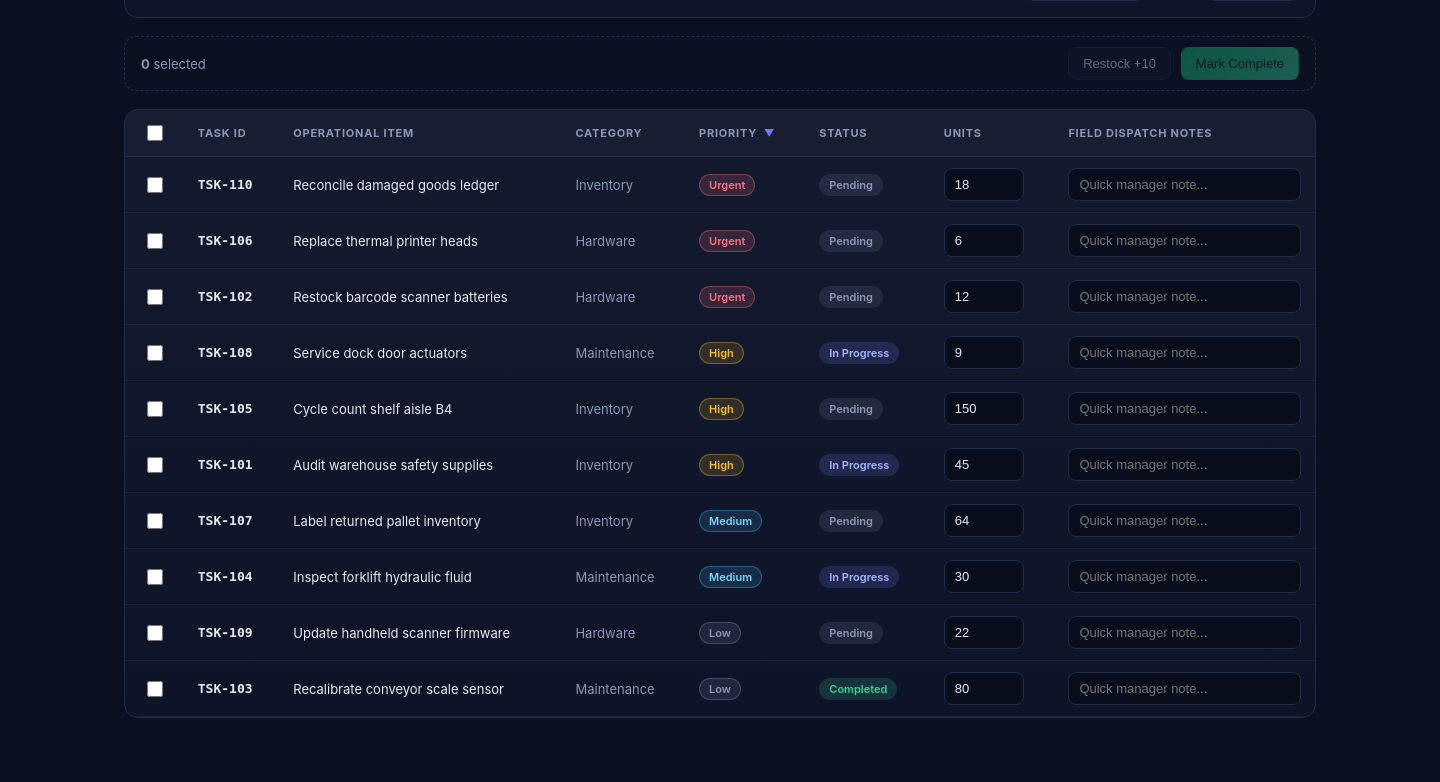
Scenario: Bulk Actions & Selection Fidelity › updates ALL selected tasks when executing bulk Mark Complete
(page scrolled)
Expected: the text "TSK-101" is shown, left=184, top=436, right=279, bottom=492
Click the checkbox named "Select task TSK-101" at (155, 464), box left=147, top=456, right=163, bottom=472
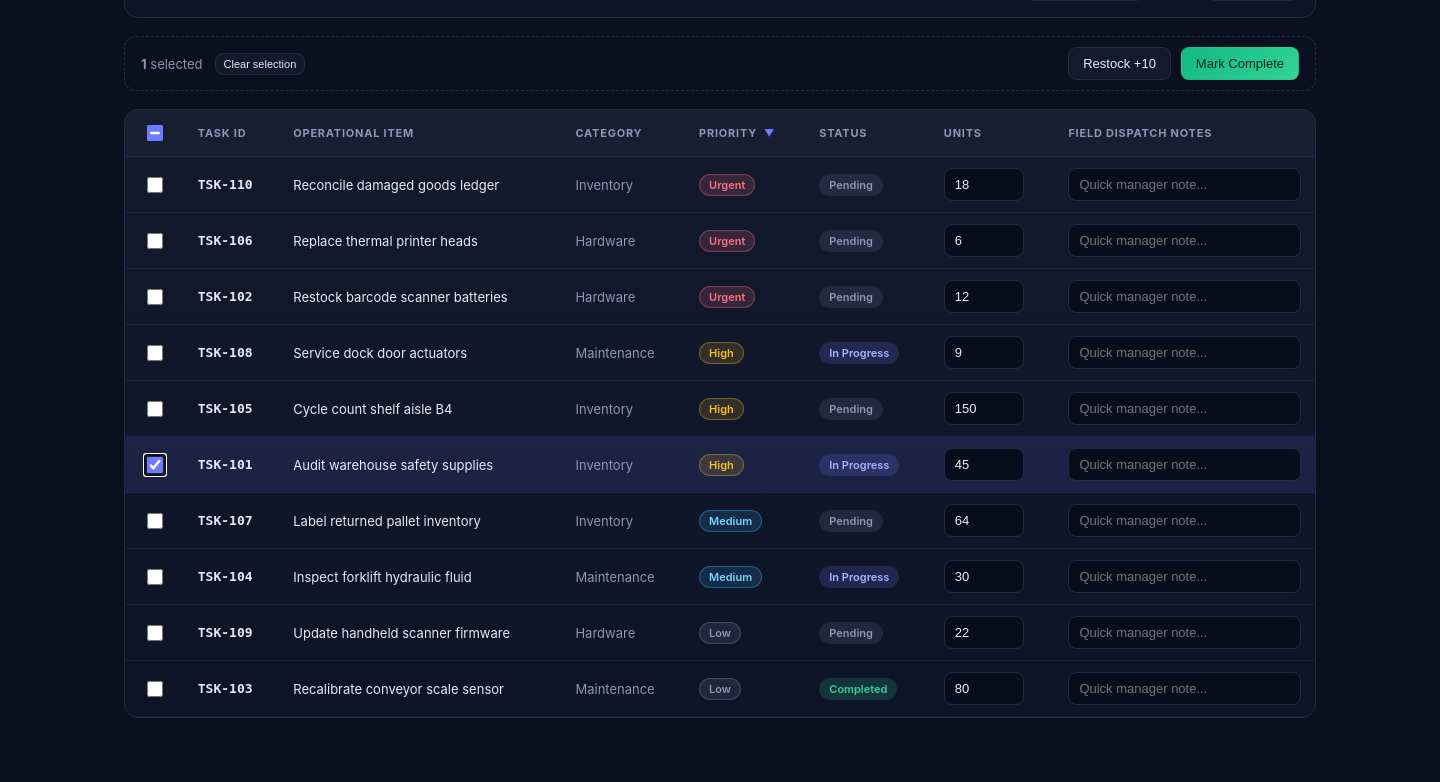
Click the checkbox named "Select task TSK-102" at (155, 296), box left=147, top=288, right=163, bottom=304
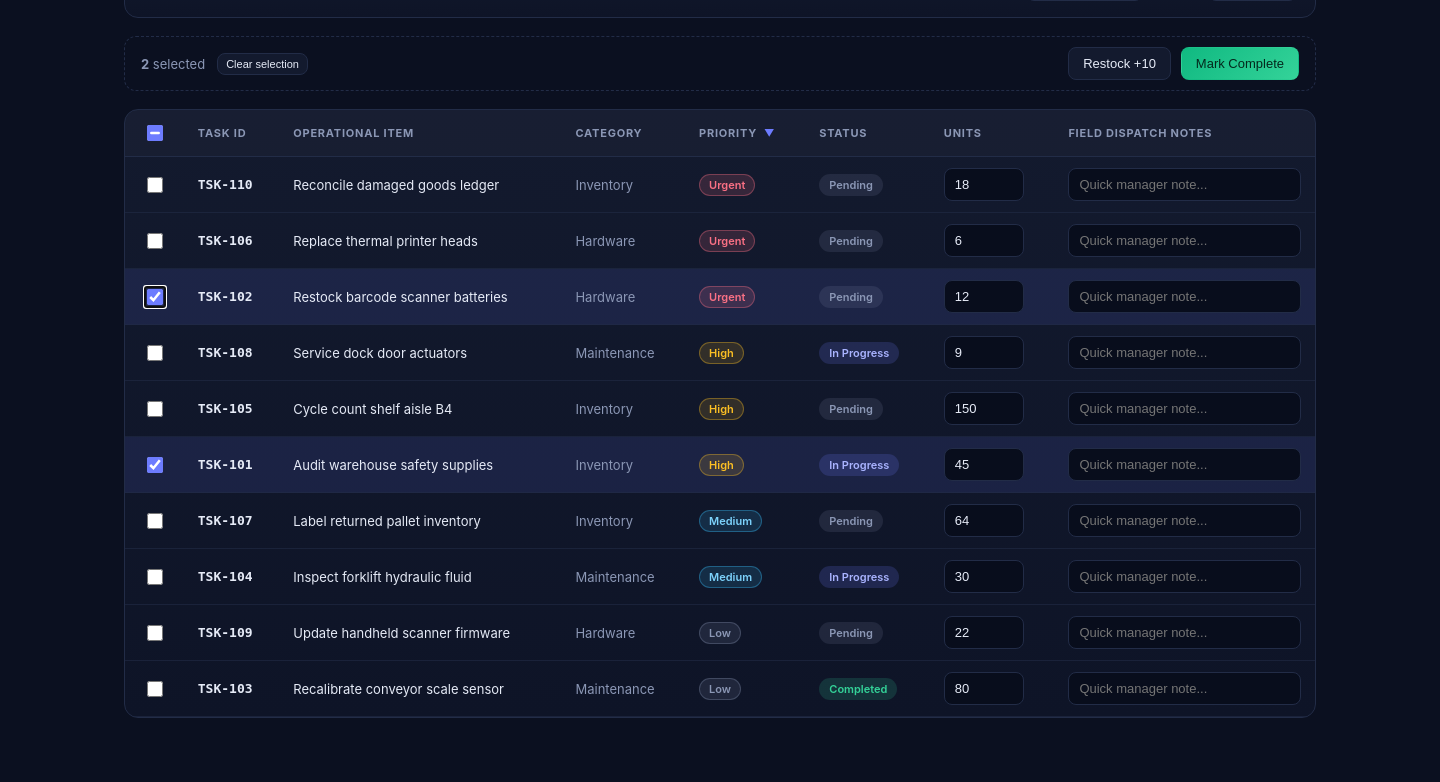
Click the checkbox named "Select task TSK-104" at (155, 576), box left=147, top=568, right=163, bottom=584
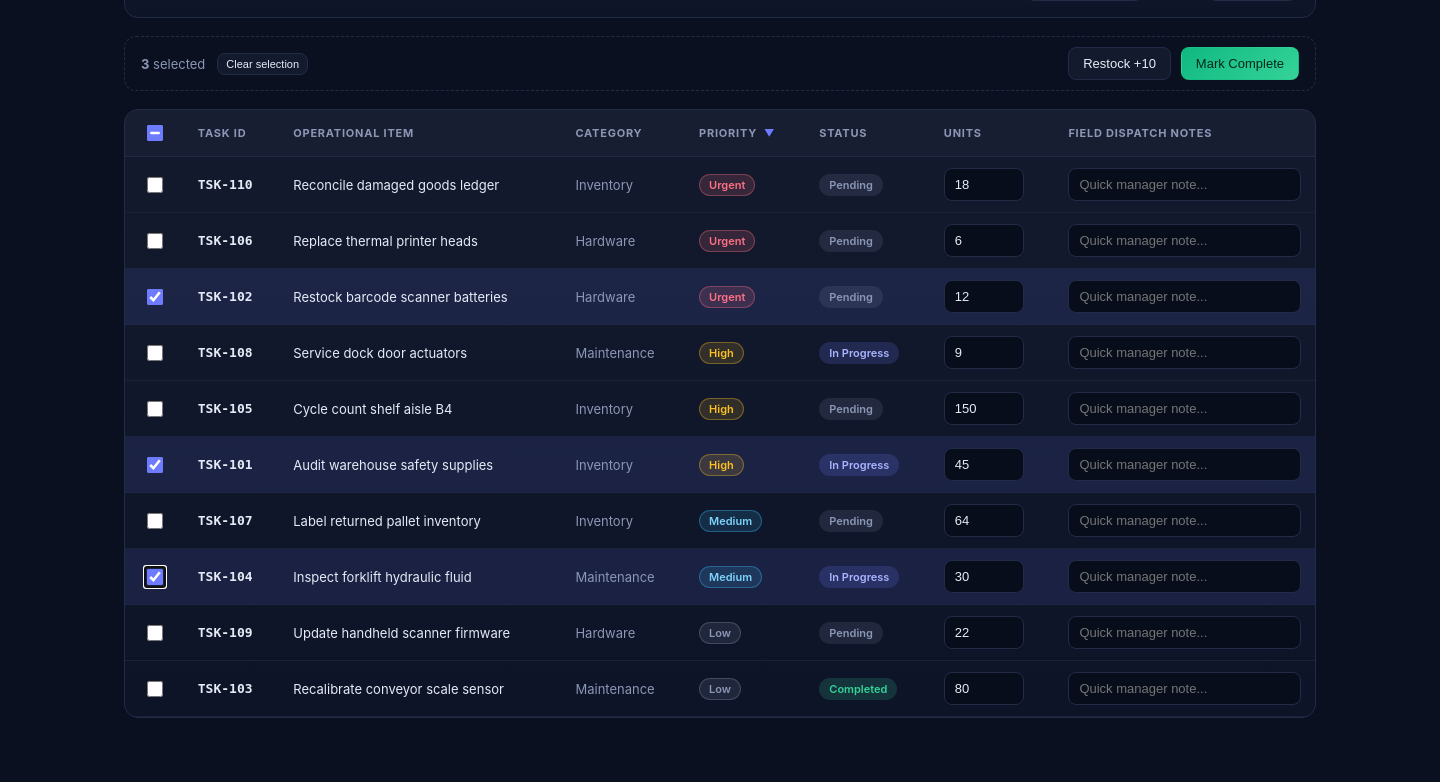
Now the element with class "bulkbar" shows "3 selected", box left=124, top=36, right=1316, bottom=91
Note: Click "Mark Complete"
Click the button "Mark Complete" at (1240, 64), box left=1181, top=47, right=1299, bottom=80
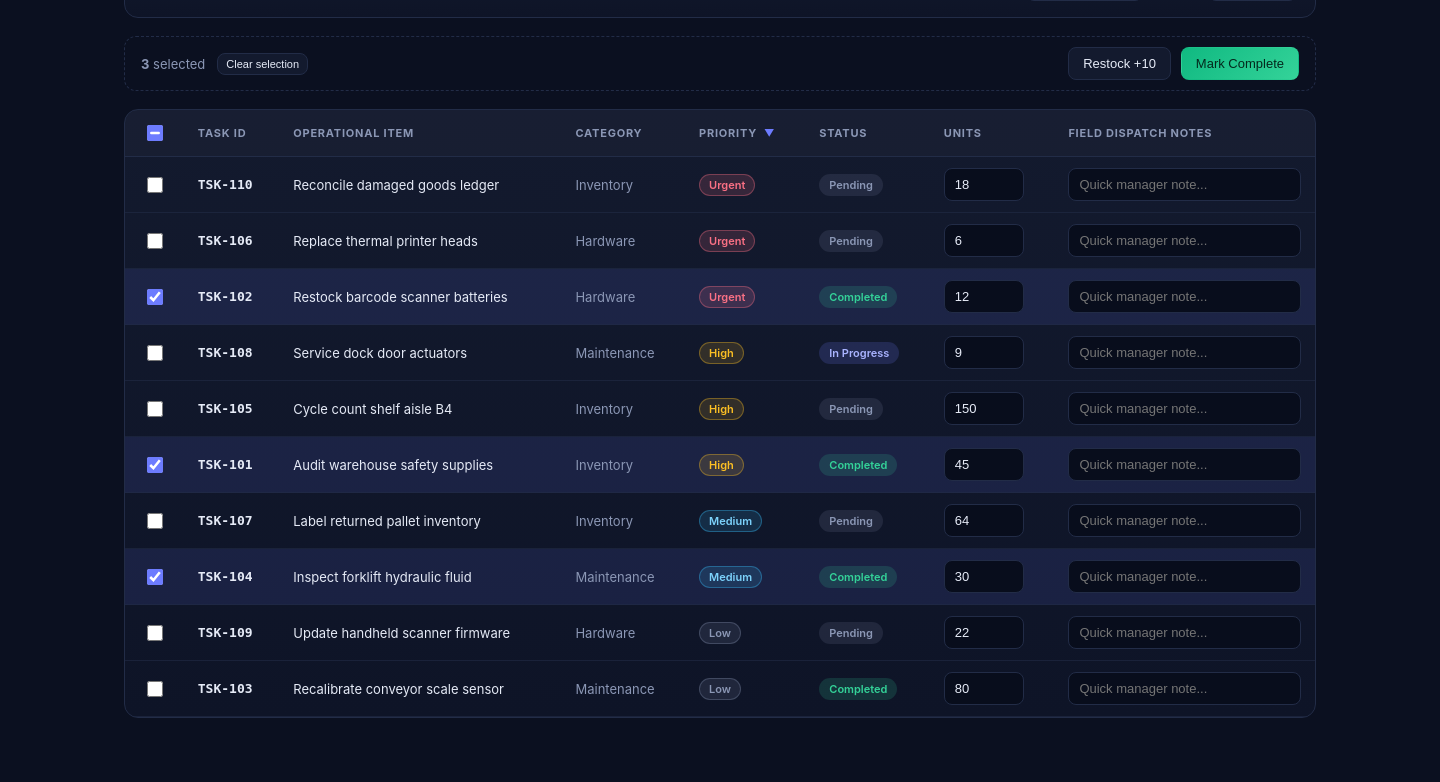
Now the text "TSK-101" shows "Completed", box left=829, top=458, right=887, bottom=472
Now the text "TSK-102" shows "Completed", box left=829, top=290, right=887, bottom=304
Now the text "TSK-104" shows "Completed", box left=829, top=570, right=887, bottom=584
